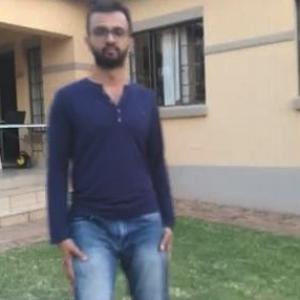follow: (93, 35, 191, 299)
